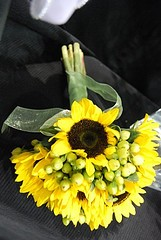flower: (51, 96, 123, 177)
